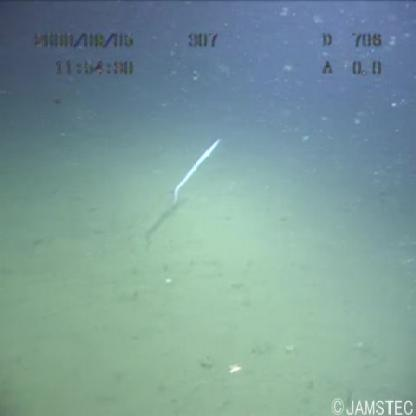Bio: (161, 133, 226, 225)
